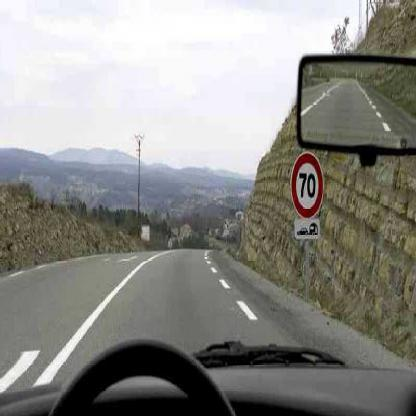Speed Limit 70: (294, 152, 322, 217)
